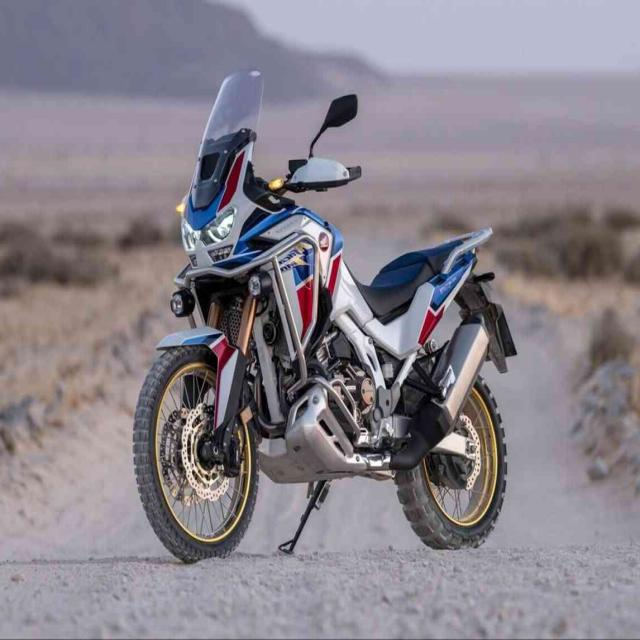motorcycle: (134, 72, 516, 561)
